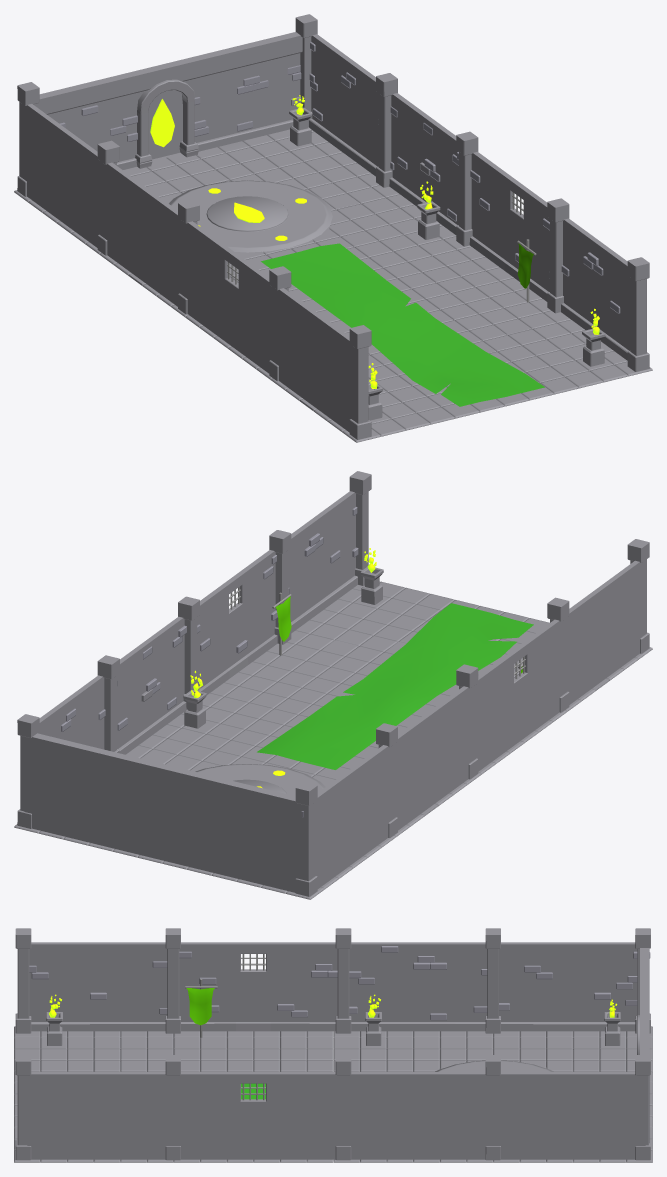
File: Poison_Dungeon.glb
3 renders of one model, top to bottom at view 1: azimuth 30°, elevation 25°; view 2: azimuth 150°, elevation 25°; view 3: azimuth 270°, elevation 25°, orthographic. The views are drawn at different scales.
Parts seen in each view (by area): view 1: Object_6, Object_5, Object_2, Object_7, Object_9, Object_8, Object_10; view 2: Object_6, Object_5, Object_2, Object_7, Object_8, Object_9; view 3: Object_6, Object_5, Object_9, Object_7, Object_8, Object_3, Object_4, Object_10.
Part boxes in pixels (bbox=[...]): Object_6: bbox=[17, 34, 651, 440]; Object_5: bbox=[15, 14, 649, 439]; Object_2: bbox=[261, 243, 544, 406]; Object_7: bbox=[185, 250, 652, 442]; Object_9: bbox=[59, 42, 620, 313]; Object_8: bbox=[14, 131, 470, 316]; Object_10: bbox=[150, 95, 599, 388]; Object_6: bbox=[38, 491, 651, 888]; Object_5: bbox=[15, 471, 649, 897]; Object_2: bbox=[257, 603, 533, 769]; Object_7: bbox=[203, 581, 652, 774]; Object_8: bbox=[14, 707, 481, 899]; Object_9: bbox=[61, 507, 358, 817]; Object_6: bbox=[14, 942, 650, 1160]; Object_5: bbox=[14, 928, 652, 1160]; Object_9: bbox=[29, 946, 650, 1020]; Object_7: bbox=[14, 1027, 333, 1162]; Object_8: bbox=[333, 1027, 652, 1162]; Object_3: bbox=[186, 988, 214, 1025]; Object_4: bbox=[185, 954, 265, 1100]; Object_10: bbox=[49, 994, 617, 1017].
Size of the model in its own units: 23.88 by 8.28 by 47.78.
